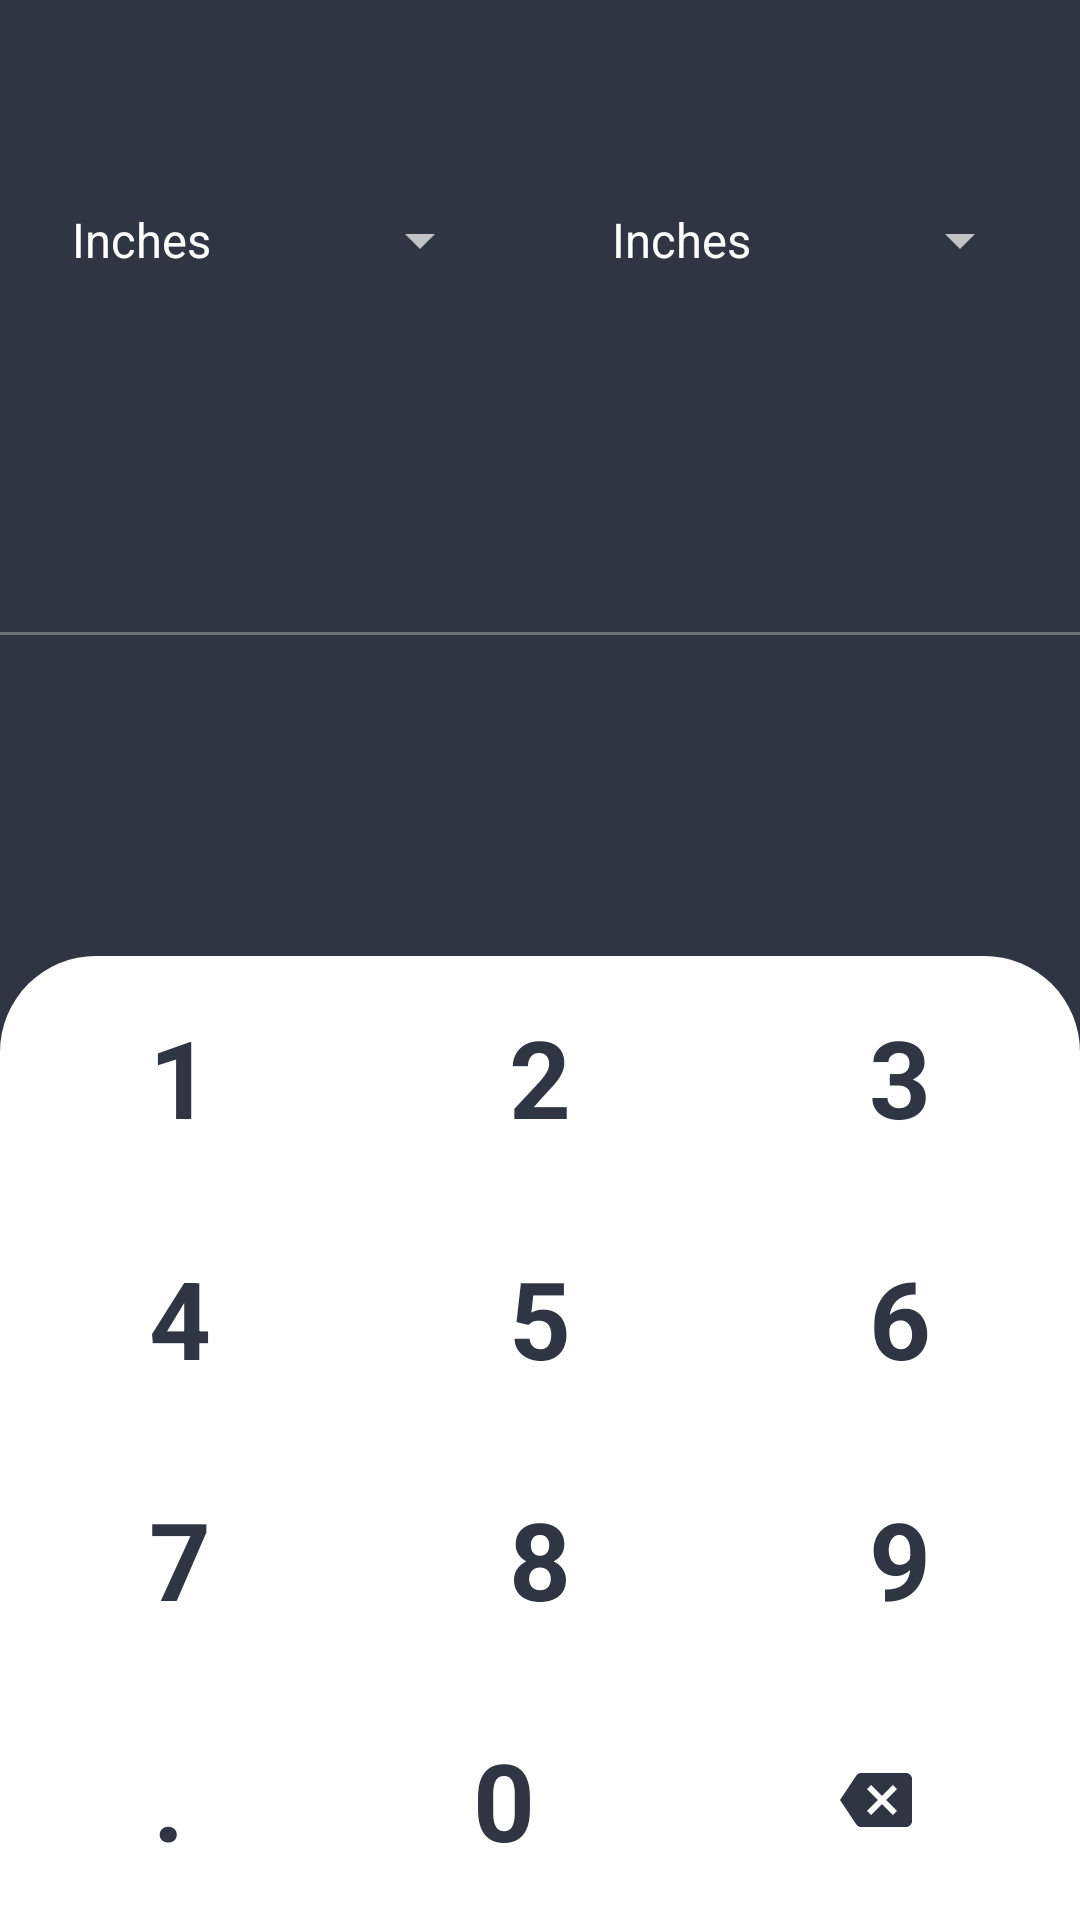

Icons on this 1080x1920 Android screen, each with the point to tap as (x=x, y=y):
backspace: (x=876, y=1800)
